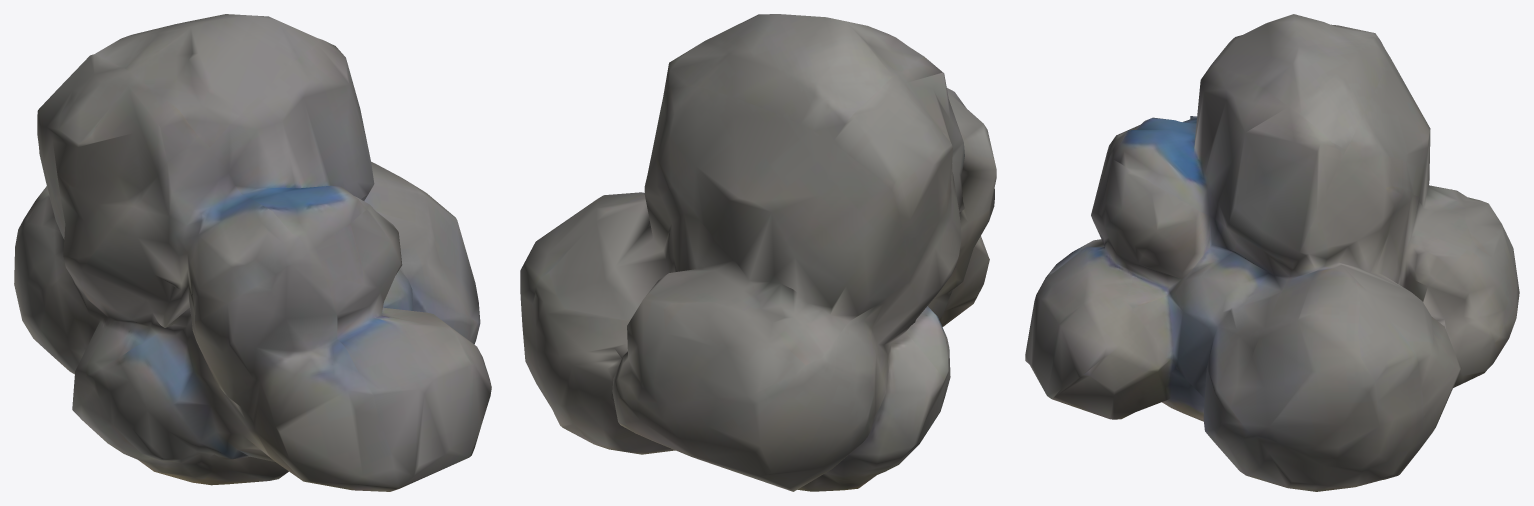
The model's file is rock_cluster.glb.
3 views of the same model, side by side, from view 1: azimuth 30°, elevation 25°; view 2: azimuth 150°, elevation 25°; view 3: azimuth 270°, elevation 25° (orthographic). The views are drawn at different scales.
Parts seen in each view (by area): view 1: tripo_node_95123b75-b745-43ec-9561-e8f284391aba; view 2: tripo_node_95123b75-b745-43ec-9561-e8f284391aba; view 3: tripo_node_95123b75-b745-43ec-9561-e8f284391aba.
Boxes of the visible parts, x1=… form: tripo_node_95123b75-b745-43ec-9561-e8f284391aba: x1=14, y1=14, x2=491, y2=491; tripo_node_95123b75-b745-43ec-9561-e8f284391aba: x1=520, y1=14, x2=996, y2=491; tripo_node_95123b75-b745-43ec-9561-e8f284391aba: x1=1025, y1=14, x2=1519, y2=491.
Bounding box in the file's own units: 0.7773 × 0.85 × 0.9461.
1 material, 1 textured.
